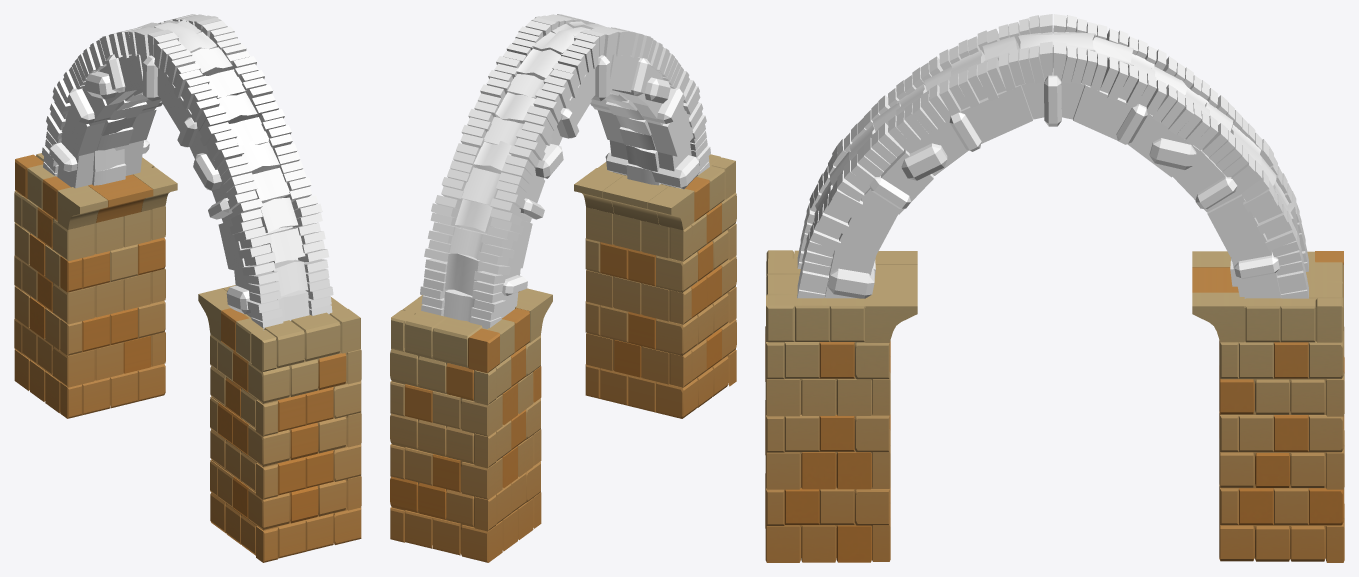
The model's file is soportal.fbx.
3 views of the same model, side by side, from view 1: azimuth 30°, elevation 25°; view 2: azimuth 150°, elevation 25°; view 3: azimuth 270°, elevation 25° (orthographic). The views are drawn at different scales.
Parts seen in each view (by area): view 1: soportal; view 2: soportal; view 3: soportal.
Part boxes in pixels (x1=…): soportal: x1=14, y1=14, x2=361, y2=562; soportal: x1=390, y1=14, x2=736, y2=562; soportal: x1=765, y1=14, x2=1344, y2=562.
Size of the model in its own units: 497 by 2063 by 2163.
